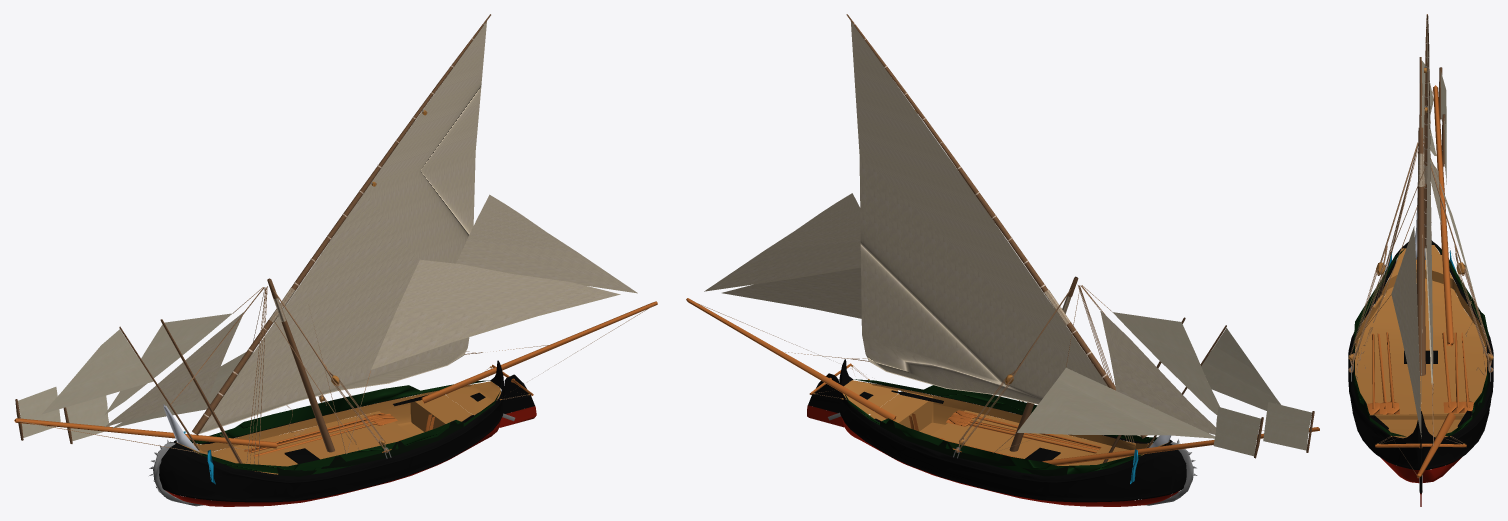
The model's file is muleta.glb.
3 views of the same model, side by side, from view 1: azimuth 30°, elevation 25°; view 2: azimuth 150°, elevation 25°; view 3: azimuth 270°, elevation 25° (orthographic). The views are drawn at different scales.
Visible parts, largest first — view 1: Vela_principal, lite_static, vela_tras1, vela_tras2, Vela_frente2, vela_avançada, vela_frente_cima, Mastro_vela_maior, mini-vela_rede-frente2, mini-vela_rede-frente2.001, vela_frente1, direcao; view 2: Vela_principal, lite_static, vela_frente1, vela_tras2, Vela_frente2, vela_tras1, vela_frente_cima, vela_avançada, Mastro_vela_maior, mini-vela_rede-frente2, mini-vela_rede-frente2.001, direcao; view 3: lite_static, vela_tras1, Vela_principal, Mastro_vela_maior, Guia, Vela_frente2, Mastro_vela_rope, vela_frente1, mini-vela_rede-frente2, vela_frente_cima, vela_tras2, vela_avançada.
Part boxes in pixels (x1,y1,x2,y2): Vela_principal: (199, 21, 486, 433); lite_static: (14, 278, 657, 506); vela_tras1: (371, 259, 620, 369); vela_tras2: (456, 194, 637, 293); Vela_frente2: (104, 311, 244, 427); vela_avançada: (42, 329, 153, 414); vela_frente_cima: (105, 313, 232, 414); Mastro_vela_maior: (192, 14, 490, 435); mini-vela_rede-frente2: (18, 387, 60, 437); mini-vela_rede-frente2.001: (66, 395, 109, 441); vela_frente1: (111, 352, 253, 428); direcao: (503, 374, 534, 413); Vela_principal: (850, 21, 1140, 436); lite_static: (686, 276, 1319, 506); vela_frente1: (1017, 368, 1214, 438); vela_tras2: (704, 193, 860, 291); Vela_frente2: (1100, 310, 1215, 434); vela_tras1: (722, 267, 861, 318); vela_frente_cima: (1112, 312, 1219, 414); vela_avançada: (1201, 328, 1280, 410); Mastro_vela_maior: (846, 14, 1147, 438); mini-vela_rede-frente2: (1263, 402, 1311, 450); mini-vela_rede-frente2.001: (1213, 407, 1260, 456); direcao: (808, 373, 840, 413); lite_static: (1348, 57, 1493, 492); vela_tras1: (1391, 226, 1421, 438); Vela_principal: (1425, 20, 1433, 384); Mastro_vela_maior: (1424, 14, 1430, 248); Guia: (1375, 443, 1466, 447); Vela_frente2: (1423, 147, 1441, 224); Mastro_vela_rope: (1417, 153, 1430, 186); vela_frente1: (1439, 181, 1477, 304); mini-vela_rede-frente2: (1440, 71, 1446, 136); vela_frente_cima: (1421, 90, 1436, 155); vela_tras2: (1421, 235, 1422, 432); vela_avançada: (1421, 60, 1433, 142).
Size of the model in its own units: 2525 by 1621 by 439.
Materials: 22 (9 with a texture image).
